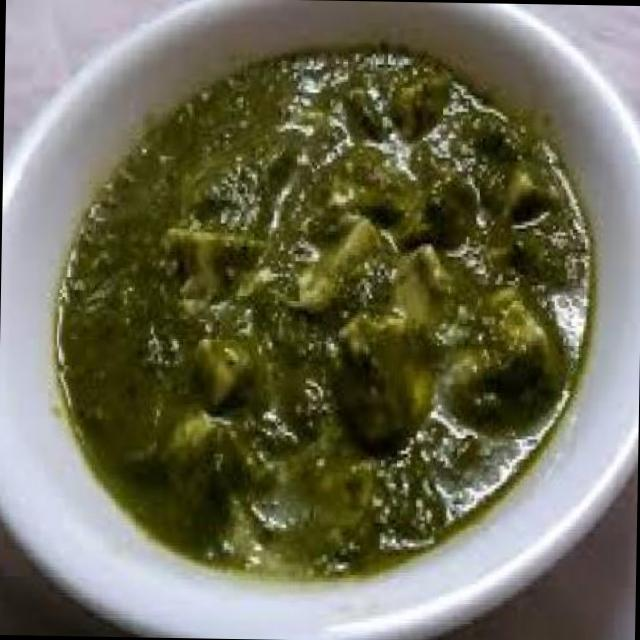palak_paneer: (54, 40, 597, 585)
